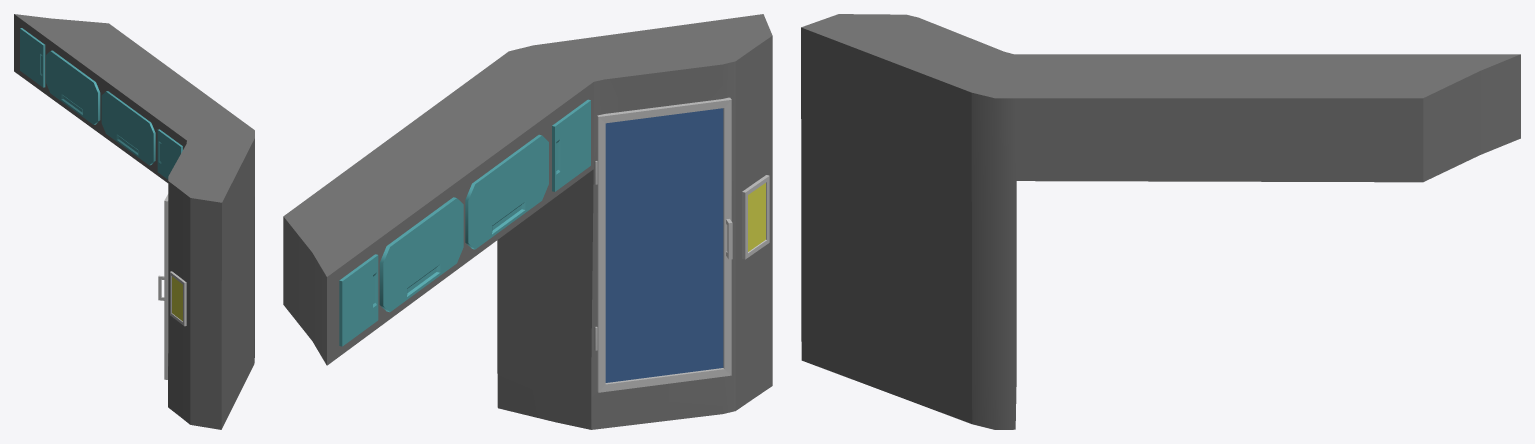
Rendered from Cabinets.fbx.
The picture shows the model from 3 angles, left to right: view 1: azimuth 30°, elevation 25°; view 2: azimuth 150°, elevation 25°; view 3: azimuth 270°, elevation 25°; orthographic projection. The views are drawn at different scales.
Visible parts, largest first — view 1: base, smalldoors, fridgedoor, temperaturepanel; view 2: base, fridge, smalldoors, fridgedoor, temperaturepanel; view 3: base.
Boxes of the visible parts, x1,y1,x2,y2 form: base: [14, 14, 254, 429]; smalldoors: [20, 28, 182, 179]; fridgedoor: [164, 194, 168, 379]; temperaturepanel: [170, 271, 186, 326]; base: [283, 14, 772, 429]; fridge: [605, 108, 723, 382]; smalldoors: [339, 99, 590, 346]; fridgedoor: [594, 97, 731, 392]; temperaturepanel: [742, 175, 769, 259]; base: [801, 14, 1520, 429].
Size of the model in its own units: 170 by 305 by 598.
